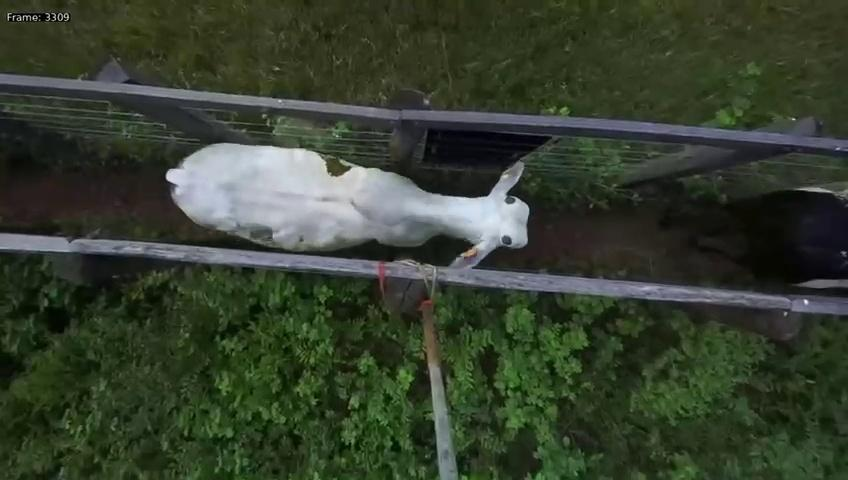cattle: (156, 124, 532, 272)
